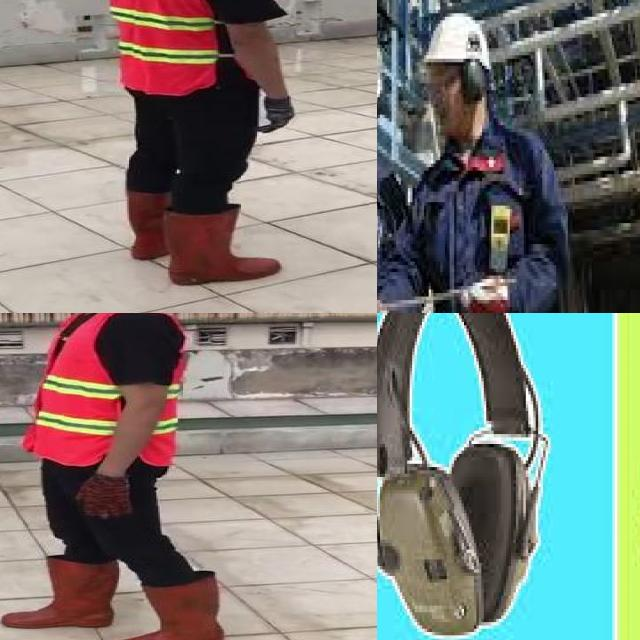Ear-protection: (377, 460, 488, 628), (448, 440, 532, 610), (459, 55, 484, 101), (377, 90, 384, 111)
boots: (159, 204, 282, 291), (2, 557, 119, 630), (112, 574, 224, 640), (122, 188, 179, 266)
hand_glove: (75, 474, 135, 520), (452, 273, 514, 313), (261, 95, 296, 134)
head_helmet: (412, 6, 492, 70)
person: (0, 313, 236, 640), (93, 0, 297, 291), (419, 20, 551, 313)
vest: (23, 313, 181, 469), (102, 0, 233, 98)
